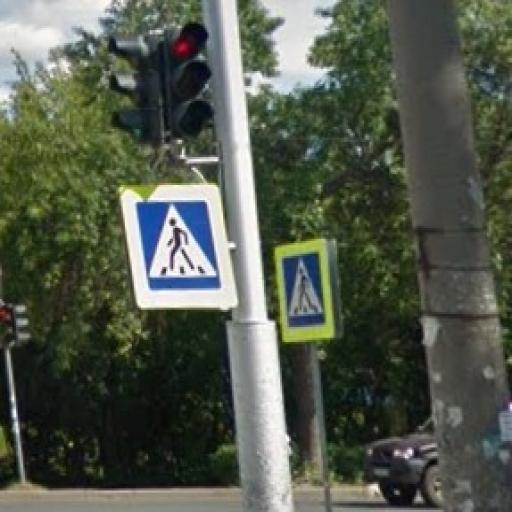traffic_sign: (115, 180, 242, 311), (276, 240, 338, 343)
